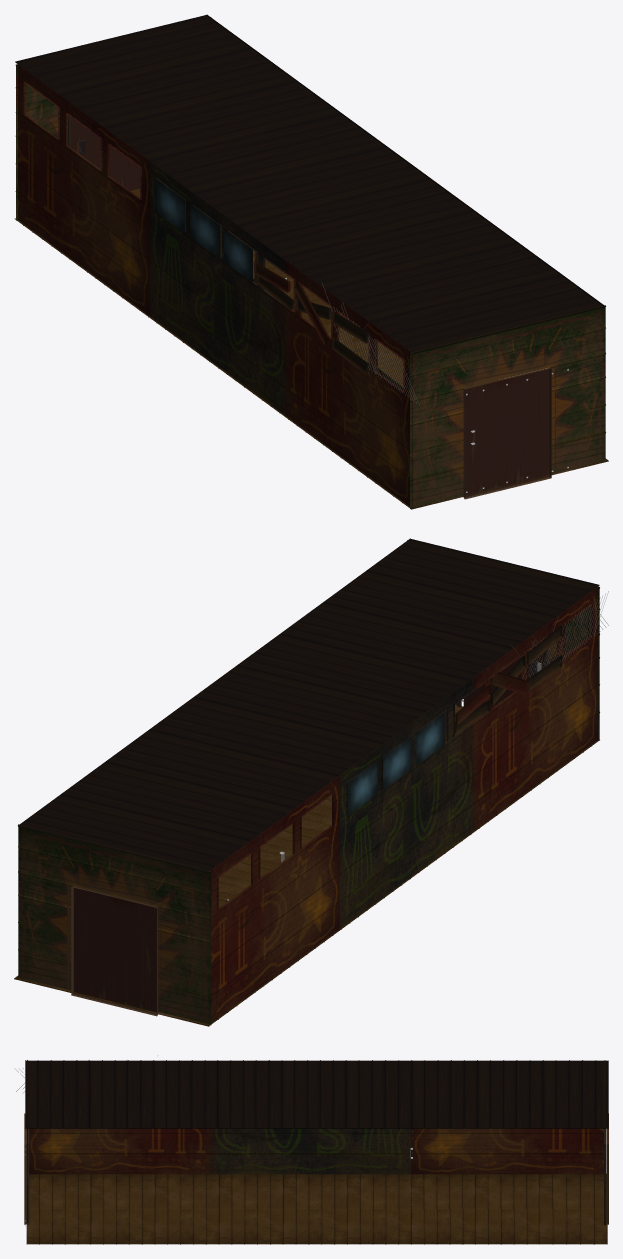
Rendered from 1_7_SHELL.fbx.
3 views of the same model, one above another, from view 1: azimuth 30°, elevation 25°; view 2: azimuth 150°, elevation 25°; view 3: azimuth 270°, elevation 25° (orthographic). The views are drawn at different scales.
Parts seen in each view (by area): view 1: Windowed_Wall, pPlane23, Windowed_Wall1, Alt_Door2, Modular_Ceiling11, Modular_Ceiling14, Modular_Ceiling12, Modular_Ceiling13, Modular_Ceiling1, Modular_Ceiling9, Modular_Ceiling10, Modular_Ceiling8 (+7 smaller); view 2: Windowed_Wall, pPlane1, Windowed_Wall1, Alt_Door, Modular_Ceiling14, Modular_Ceiling11, Modular_Ceiling12, Modular_Ceiling13, Modular_Ceiling10, Modular_Ceiling1, Modular_Ceiling8, Modular_Ceiling7 (+8 smaller); view 3: Windowed_Wall, Windowed_Wall1, Modular_Ceiling12, Modular_Ceiling11, Modular_Ceiling13, Modular_Ceiling14, Modular_Ceiling1, Modular_Ceiling7, Modular_Ceiling8, Modular_Ceiling9, Modular_Ceiling10, Modular_Floorboard23 (+19 smaller).
Boxes of the visible parts, bbox=[...] form: Windowed_Wall: bbox=[150, 161, 412, 507]; pPlane23: bbox=[410, 305, 605, 508]; Windowed_Wall1: bbox=[16, 64, 150, 315]; Alt_Door2: bbox=[463, 368, 551, 499]; Modular_Ceiling11: bbox=[149, 113, 385, 193]; Modular_Ceiling14: bbox=[15, 14, 251, 94]; Modular_Ceiling12: bbox=[105, 80, 340, 160]; Modular_Ceiling13: bbox=[60, 47, 296, 127]; Modular_Ceiling1: bbox=[370, 274, 605, 353]; Modular_Ceiling9: bbox=[238, 178, 473, 257]; Modular_Ceiling10: bbox=[194, 146, 429, 224]; Modular_Ceiling8: bbox=[282, 210, 517, 289]; Windowed_Wall: bbox=[340, 586, 598, 928]; pPlane1: bbox=[18, 824, 211, 1024]; Windowed_Wall1: bbox=[209, 776, 340, 1022]; Alt_Door: bbox=[71, 886, 158, 1016]; Modular_Ceiling14: bbox=[18, 793, 250, 872]; Modular_Ceiling11: bbox=[150, 696, 383, 775]; Modular_Ceiling12: bbox=[106, 729, 339, 807]; Modular_Ceiling13: bbox=[62, 761, 294, 840]; Modular_Ceiling10: bbox=[194, 665, 426, 742]; Modular_Ceiling1: bbox=[367, 538, 599, 616]; Modular_Ceiling8: bbox=[281, 602, 512, 679]; Modular_Ceiling7: bbox=[324, 570, 556, 647]; Windowed_Wall: bbox=[29, 1128, 410, 1174]; Windowed_Wall1: bbox=[411, 1128, 603, 1174]; Modular_Ceiling12: bbox=[411, 1060, 477, 1128]; Modular_Ceiling11: bbox=[346, 1060, 411, 1128]; Modular_Ceiling13: bbox=[477, 1060, 542, 1128]; Modular_Ceiling14: bbox=[543, 1060, 608, 1128]; Modular_Ceiling1: bbox=[25, 1060, 89, 1128]; Modular_Ceiling7: bbox=[89, 1060, 153, 1128]; Modular_Ceiling8: bbox=[153, 1060, 217, 1128]; Modular_Ceiling9: bbox=[218, 1060, 281, 1128]; Modular_Ceiling10: bbox=[282, 1060, 345, 1128]; Modular_Floorboard23: bbox=[539, 1209, 607, 1244].
Bounding box in the file's own units: 339 × 261 × 1171.
